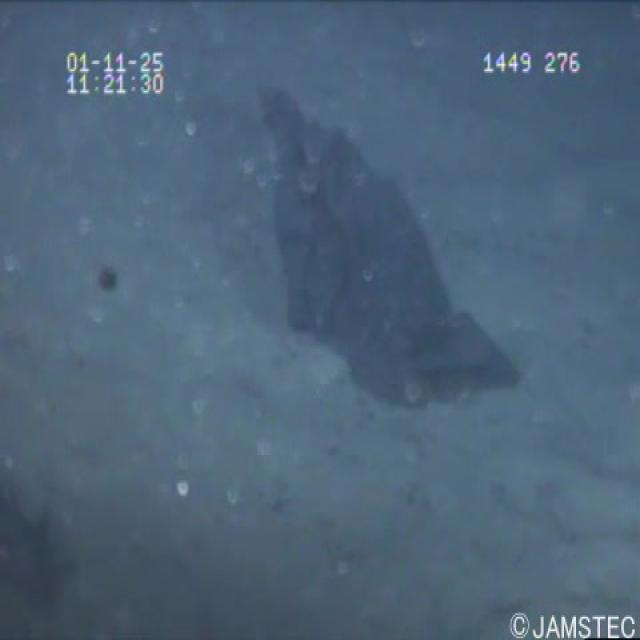plastic: (240, 71, 535, 421)
